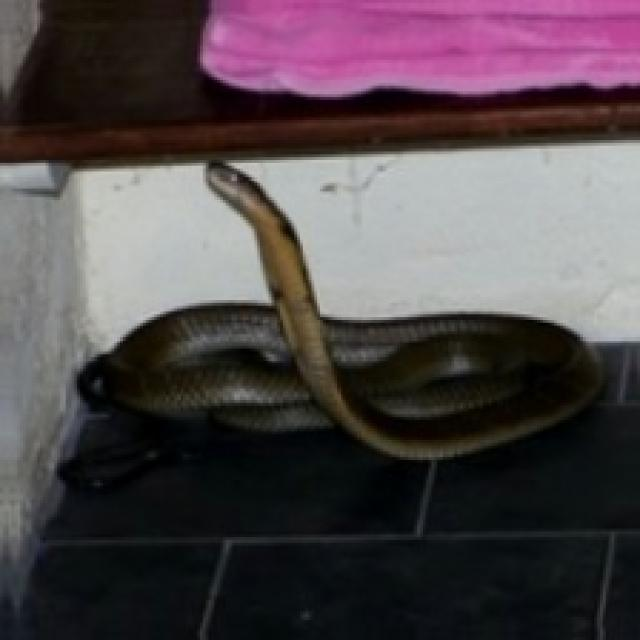king cobra: (80, 163, 600, 457)
